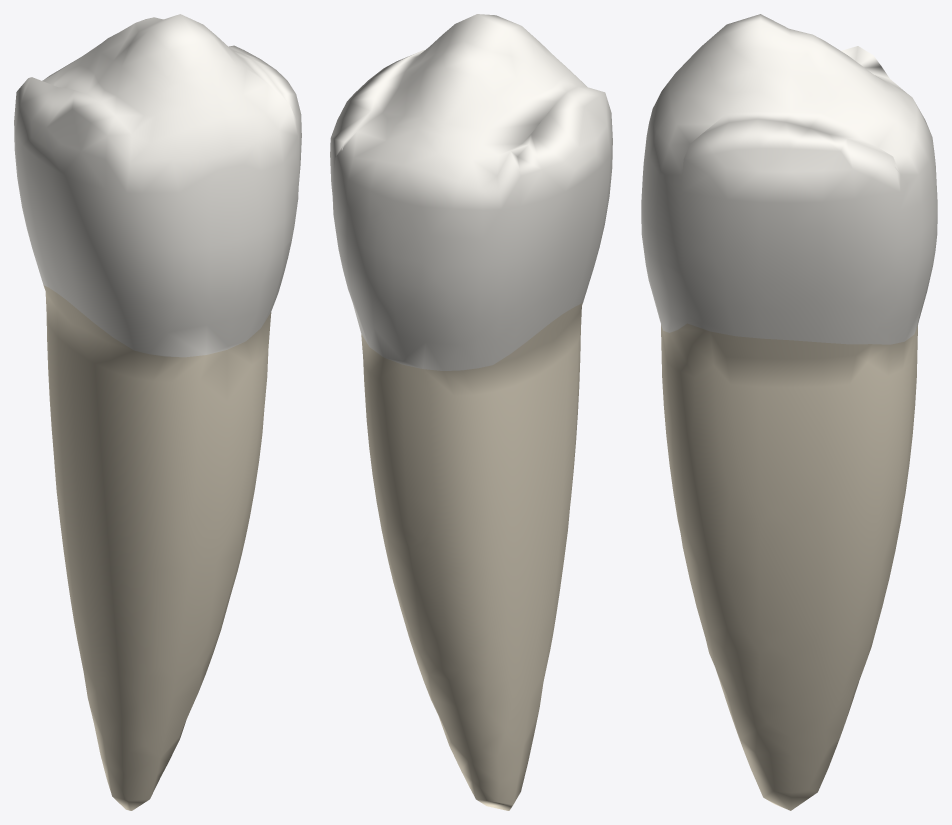
The picture shows the model from 3 angles, left to right: view 1: azimuth 30°, elevation 25°; view 2: azimuth 150°, elevation 25°; view 3: azimuth 270°, elevation 25°; orthographic projection. The views are drawn at different scales.
Visible parts, largest first — view 1: root, V, D, O, M; view 2: root, L, D, O, M; view 3: root, M, O, V, L, D.
Part boxes in pixels (x1=…): root: x1=43, y1=285, x2=271, y2=810; V: x1=124, y1=63, x2=299, y2=357; D: x1=14, y1=77, x2=133, y2=350; O: x1=54, y1=14, x2=280, y2=133; M: x1=229, y1=45, x2=301, y2=206; root: x1=361, y1=302, x2=582, y2=810; L: x1=333, y1=116, x2=502, y2=370; D: x1=493, y1=87, x2=612, y2=364; O: x1=369, y1=14, x2=585, y2=154; M: x1=330, y1=52, x2=418, y2=228; root: x1=661, y1=323, x2=917, y2=810; M: x1=681, y1=119, x2=900, y2=344; O: x1=702, y1=14, x2=875, y2=139; V: x1=641, y1=43, x2=727, y2=332; L: x1=862, y1=75, x2=937, y2=344; D: x1=841, y1=46, x2=889, y2=78.
Bounding box in the file's own units: 6.97 × 22.45 × 7.49.
